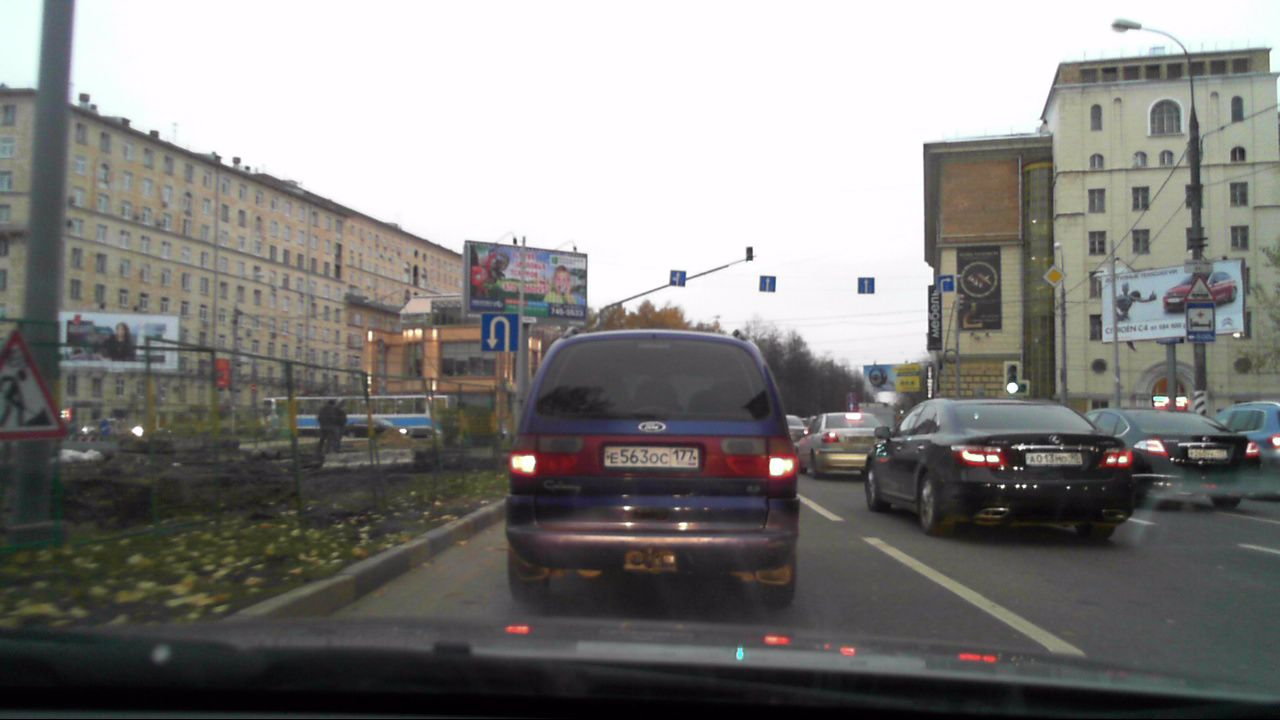U-turn: (482, 313, 517, 352)
